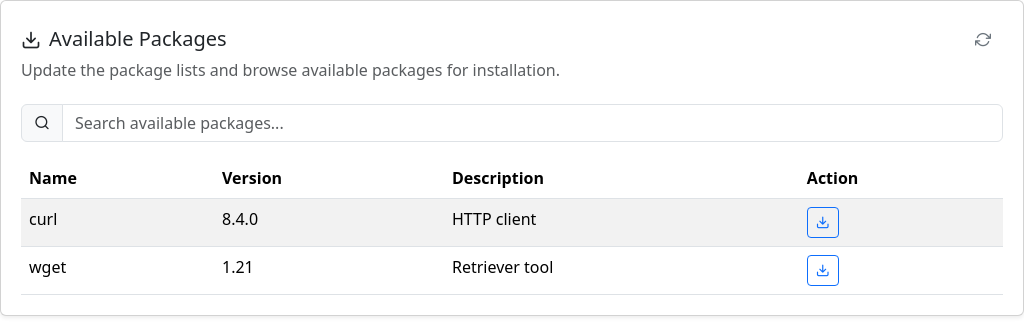
it: AvailablePackagesCard › filters the loaded list by name or description, debounced
Type "retriever" into the field with placeholder "Search available packages..." at (532, 123), box [62,104,1003,142]
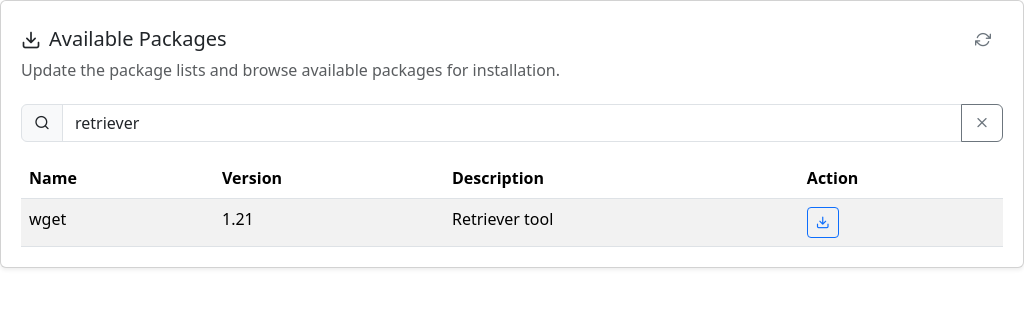
Check: the text "wget" is shown, box [21,199,214,247]
Check: the text "curl" is gone
